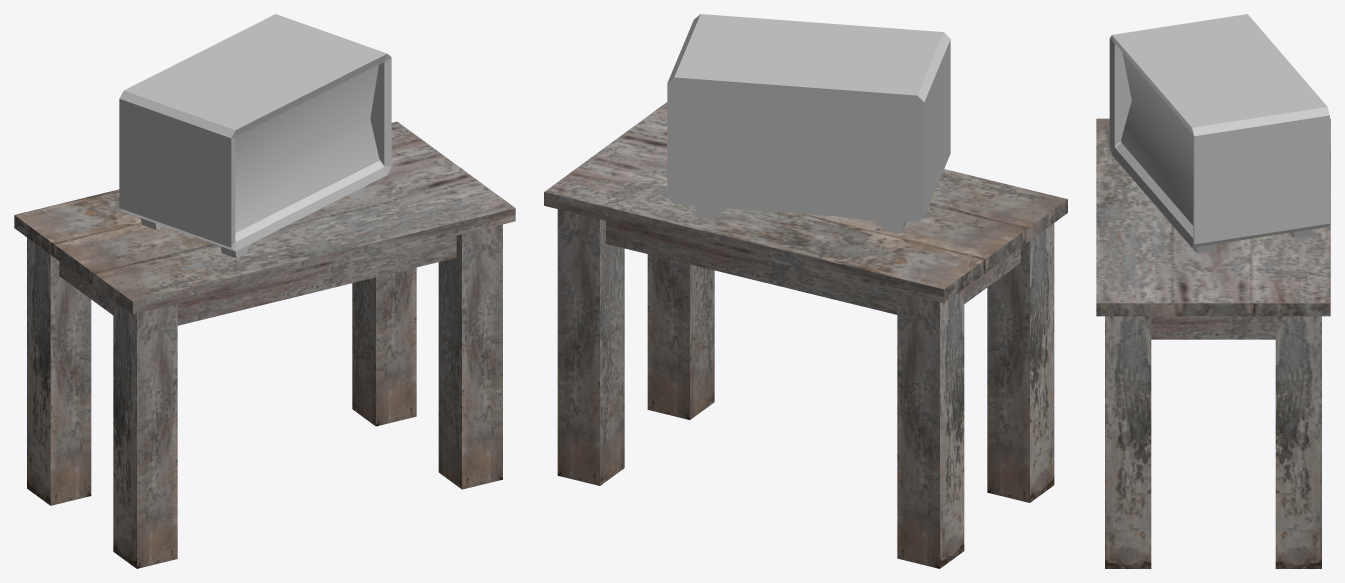
File: RadioLiving.FBX
3 views of the same model, side by side, from view 1: azimuth 30°, elevation 25°; view 2: azimuth 150°, elevation 25°; view 3: azimuth 270°, elevation 25° (orthographic). The views are drawn at different scales.
Visible parts, largest first — view 1: mesa001, Radio001; view 2: mesa001, Radio001; view 3: mesa001, Radio001.
Boxes of the visible parts, x1,y1,x2,y2 form: mesa001: (14,121,515,568); Radio001: (119,14,391,258); mesa001: (544,102,1067,568); Radio001: (667,14,950,233); mesa001: (1096,118,1330,568); Radio001: (1109,14,1329,252).
Size of the model in its own units: 22.23 by 22.8 by 11.9.
